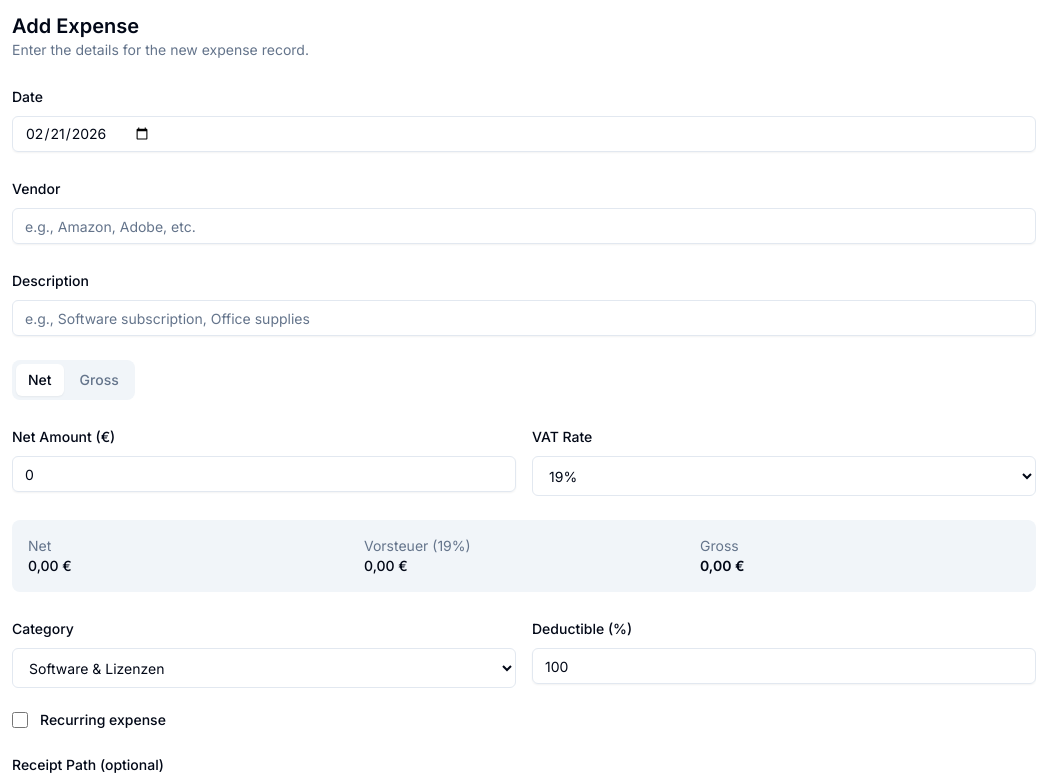
Scenario: ExpenseForm › net/gross toggle › converts amount when switching from net to gross
Replace the text in the number field labelled "Net Amount (€)" with "100" at (264, 474), box [12,456,516,492]
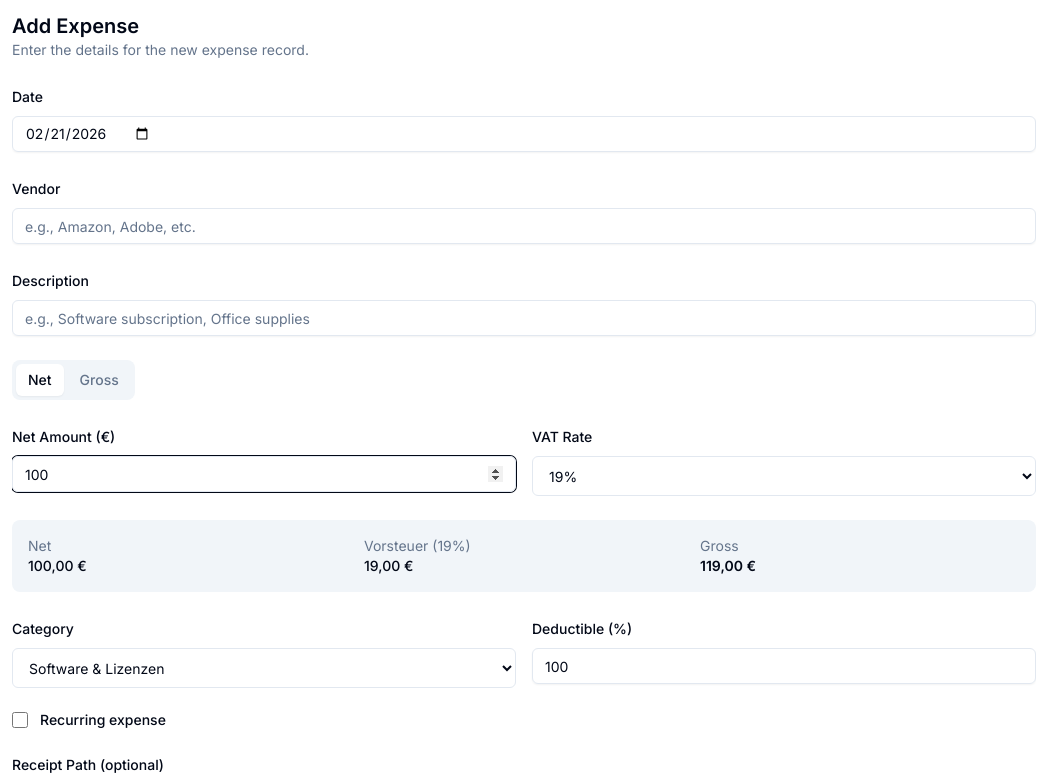
Switch to gross - should show 119 (100 + 19% VAT)
Click the radio button with aria-label "gross amount" at (99, 380), box [68,364,131,396]
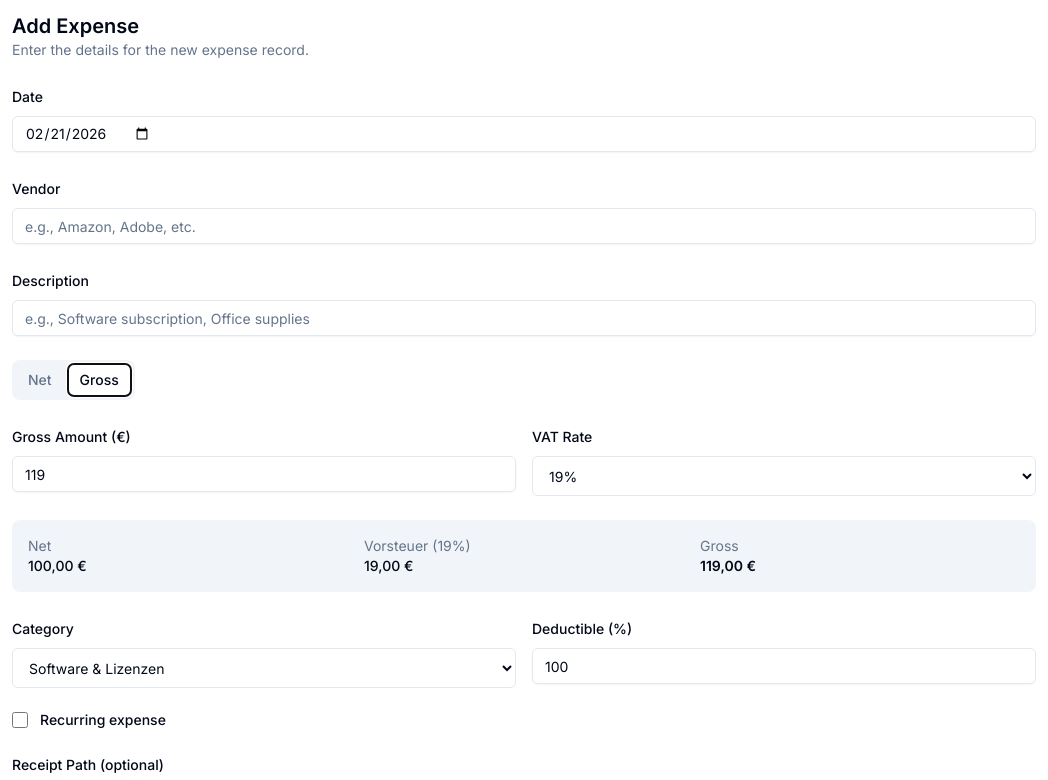
Expected: the number field labelled "Gross Amount (€)" holds "119", [12,456,516,492]
